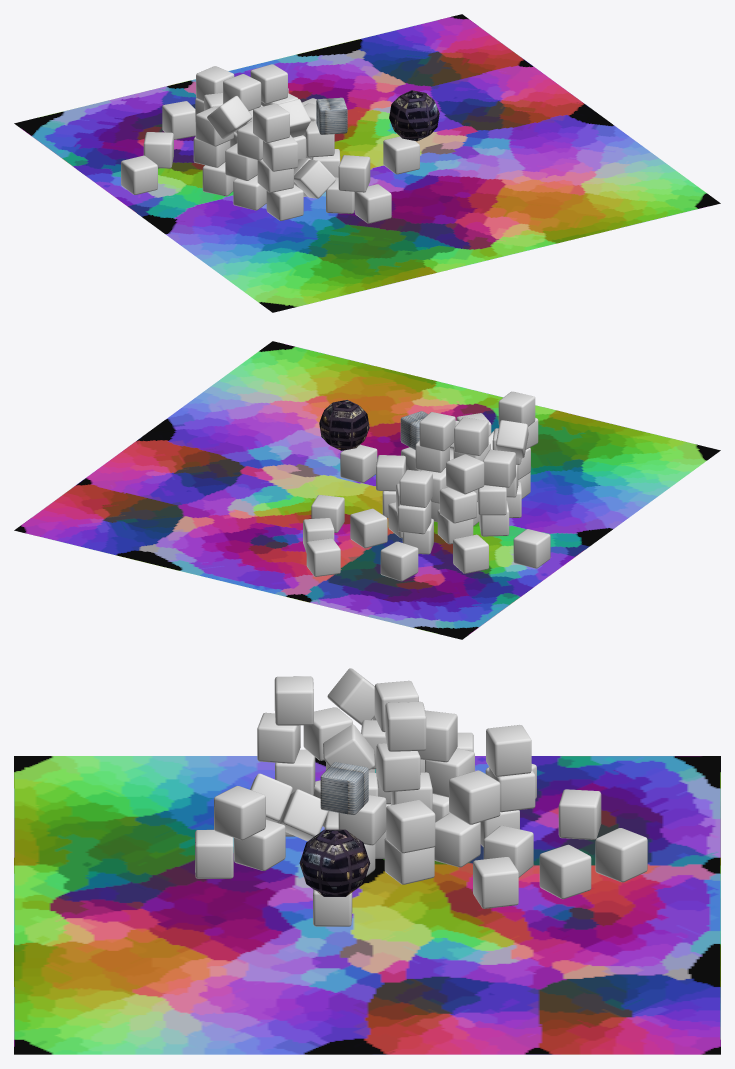
File: level1.glb
The picture shows the model from 3 angles, top to bottom: view 1: azimuth 30°, elevation 25°; view 2: azimuth 150°, elevation 25°; view 3: azimuth 270°, elevation 25°; orthographic projection. The views are drawn at different scales.
Visible parts, largest first — view 1: Plane, Icosphere, Cube.046, Cube.037, Cube.031, Cube.042, Cube.019, Cube.047, Cube.038, Cube.030, Cube.043, Cube.001 (+15 smaller); view 2: Plane, Icosphere, Cube.029, Cube.038, Cube.046, Cube.016, Cube.041, Cube.045, Cube.042, Cube.044, Cube.040, Cube.026 (+14 smaller); view 3: Plane, Icosphere, Cube.040, Cube.039, Cube.028, Cube.019, Cube.015, Cube.030, Cube.026, Cube.027, Cube.038, Cube.004 (+22 smaller).
Part boxes in pixels (x1,y1,x2,y2): Plane: (14, 14, 720, 312); Icosphere: (389, 90, 439, 141); Cube.046: (121, 155, 157, 194); Cube.037: (253, 103, 289, 142); Cube.031: (354, 184, 391, 223); Cube.042: (383, 136, 419, 174); Cube.019: (338, 155, 370, 192); Cube.047: (207, 96, 252, 138); Cube.038: (162, 101, 195, 139); Cube.030: (316, 97, 347, 134); Cube.043: (294, 159, 335, 198); Cube.001: (266, 184, 303, 220); Plane: (14, 341, 720, 639); Icosphere: (319, 400, 369, 450); Cube.029: (446, 454, 484, 494); Cube.038: (380, 541, 418, 581); Cube.046: (513, 529, 550, 568); Cube.016: (350, 508, 387, 548); Cube.041: (453, 534, 488, 573); Cube.045: (419, 412, 455, 451); Cube.042: (340, 444, 377, 482); Cube.044: (454, 417, 488, 455); Cube.040: (306, 538, 340, 576); Cube.026: (399, 469, 432, 507); Plane: (14, 756, 720, 1054); Icosphere: (299, 829, 370, 896); Cube.040: (595, 828, 647, 882); Cube.039: (539, 844, 591, 899); Cube.028: (449, 770, 500, 824); Cube.019: (214, 786, 265, 840); Cube.015: (386, 800, 435, 853); Cube.030: (320, 762, 368, 814); Cube.026: (486, 725, 531, 776); Cube.027: (473, 857, 518, 908); Cube.038: (558, 789, 601, 839); Cube.004: (434, 813, 480, 867).
Size of the model in its own units: 20 by 4.37 by 20.
Materials: 3 (3 with a texture image).
